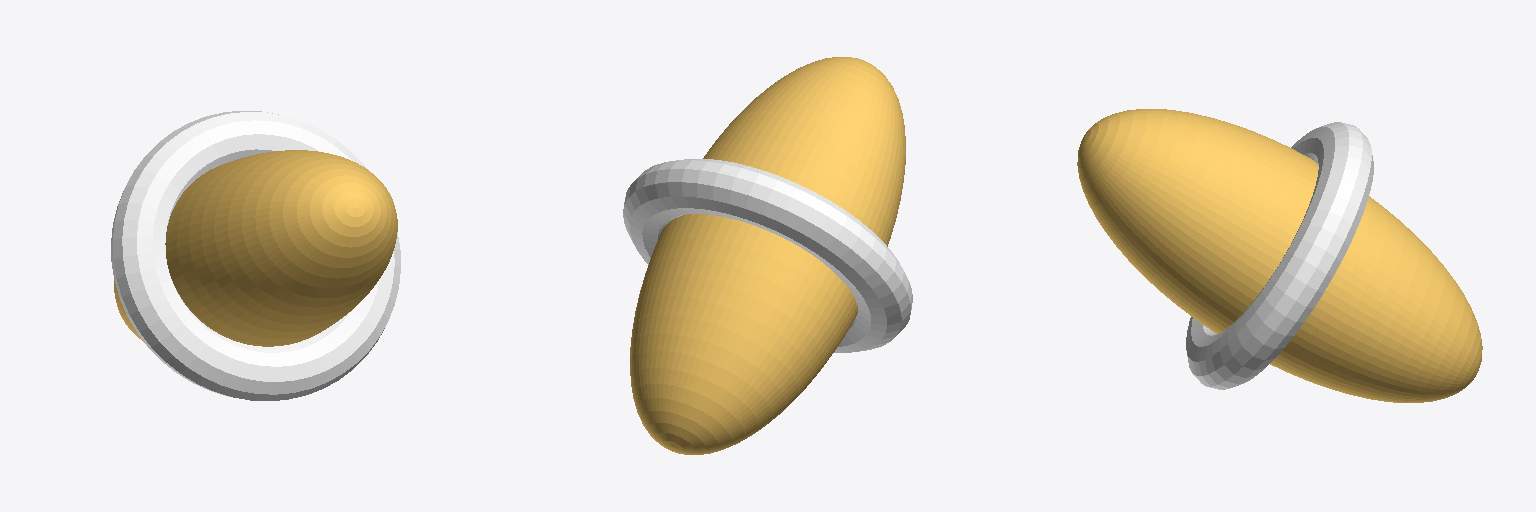
3 views of the same model, side by side, from view 1: azimuth 30°, elevation 25°; view 2: azimuth 150°, elevation 25°; view 3: azimuth 270°, elevation 25° (orthographic).
Visible parts, largest first — view 1: トーラス.001; view 2: トーラス.001; view 3: トーラス.001.
Boxes of the visible parts, <box> form: トーラス.001: <box>111,111,400,400</box>; トーラス.001: <box>623,57,912,454</box>; トーラス.001: <box>1077,109,1482,402</box>.
Bounding box in the file's own units: 2.01 × 1.96 × 2.58.
1 materials, 1 textured.